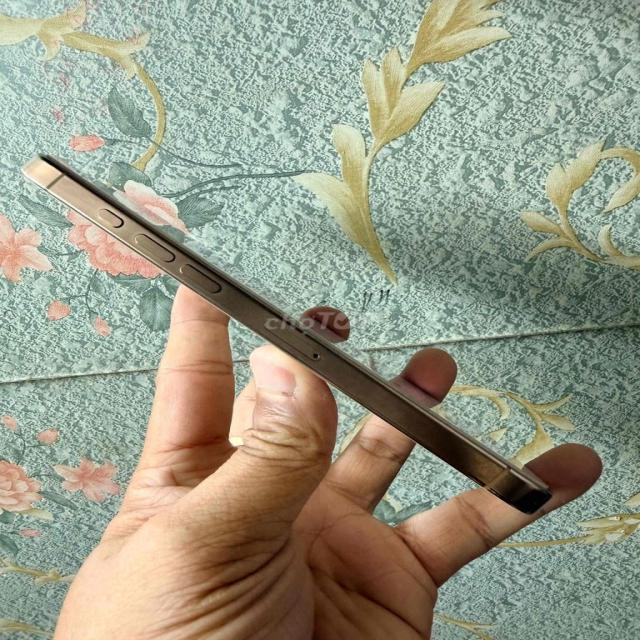gen_16: (21, 147, 575, 521)
